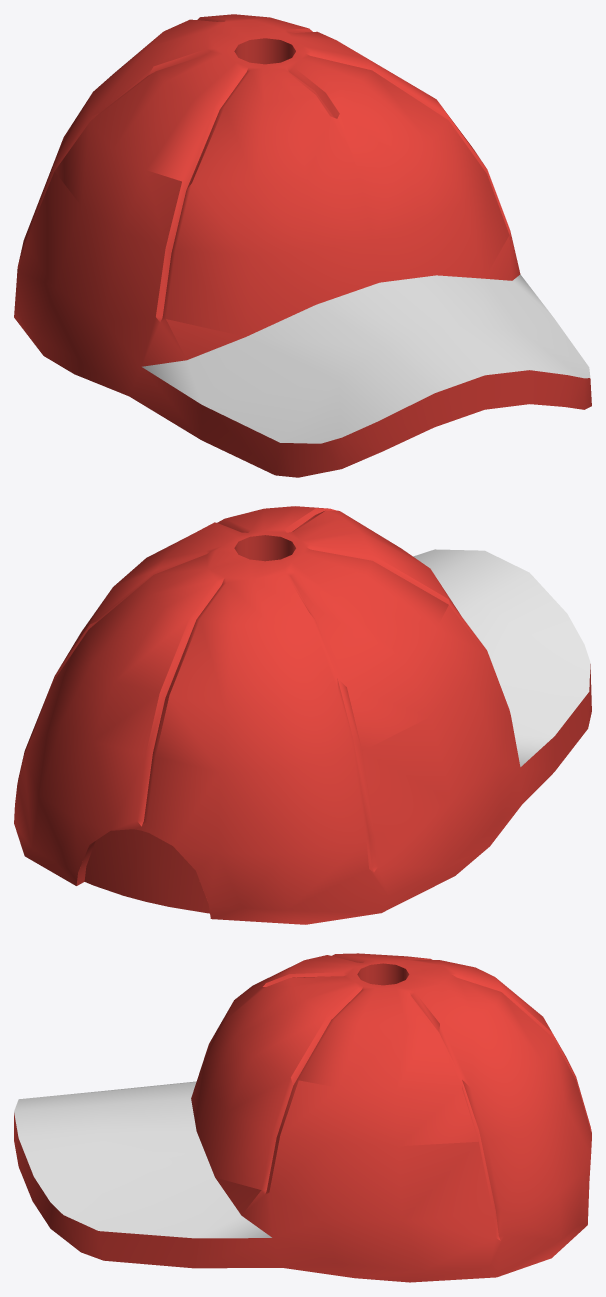
Rendered from uploads_files_1825819_lego+cap+blend+Cycle.fbx.
3 renders of one model, top to bottom at view 1: azimuth 30°, elevation 25°; view 2: azimuth 150°, elevation 25°; view 3: azimuth 270°, elevation 25°, orthographic. The views are drawn at different scales.
Parts seen in each view (by area): view 1: Piece000; view 2: Piece000; view 3: Piece000.
Boxes of the visible parts, <box> form: Piece000: <box>14,14,591,477</box>; Piece000: <box>14,506,591,924</box>; Piece000: <box>14,953,591,1282</box>.
Bounding box in the file's own units: 301 × 187 × 430.
